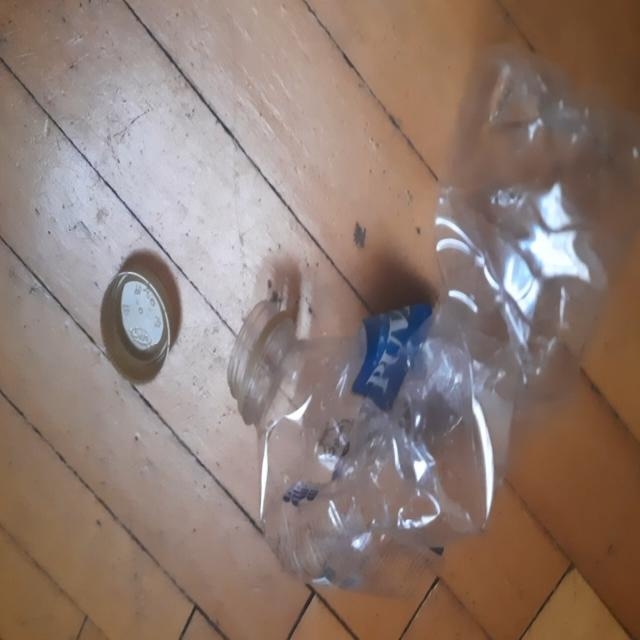Plastic: (228, 46, 636, 591)
